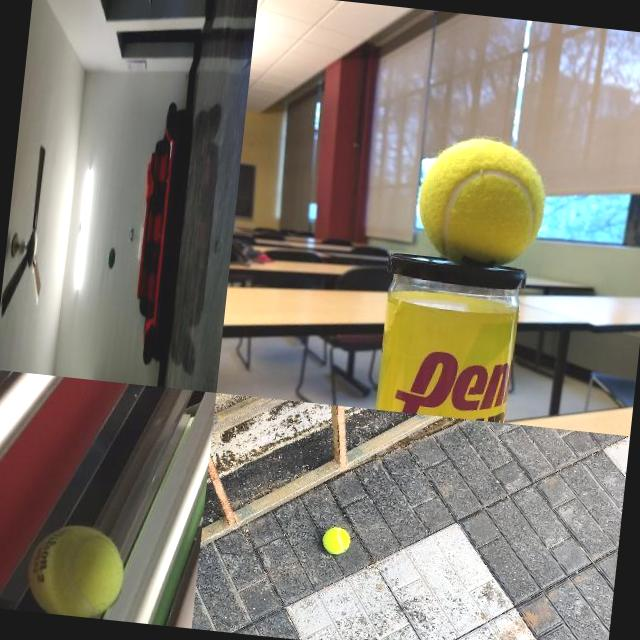Tennis Ball: (411, 130, 553, 273), (22, 519, 129, 620), (320, 524, 350, 556), (108, 246, 116, 270)
